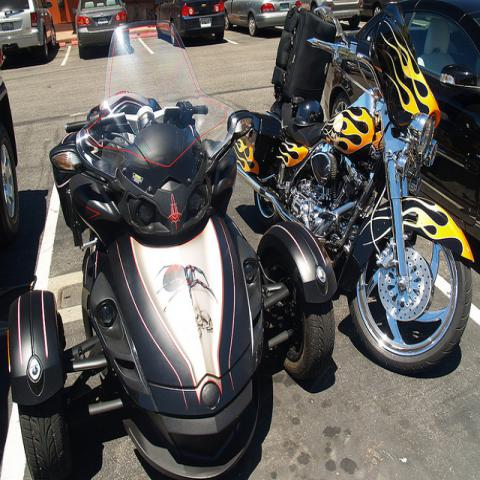car: (321, 0, 480, 250), (0, 1, 58, 70), (154, 0, 226, 44), (71, 2, 129, 56), (227, 1, 292, 40)
motorcycle: (5, 12, 341, 476), (248, 6, 475, 385)
